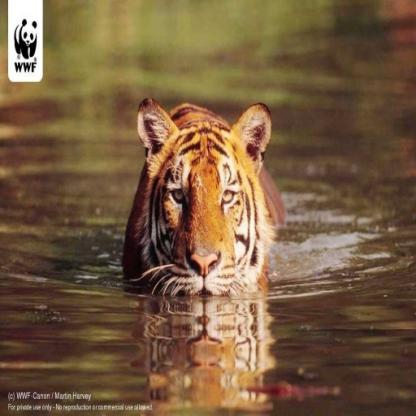Tiger: (109, 87, 296, 313)
